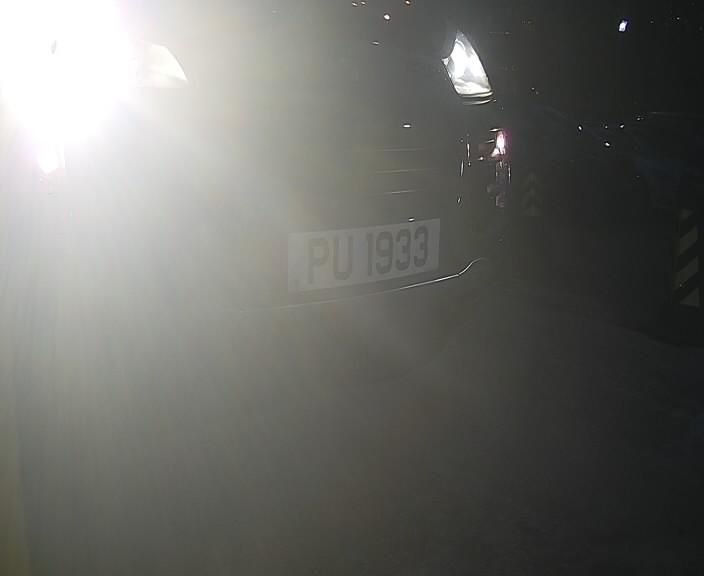Car: (38, 1, 588, 422)
License Plate: (274, 211, 463, 316)
